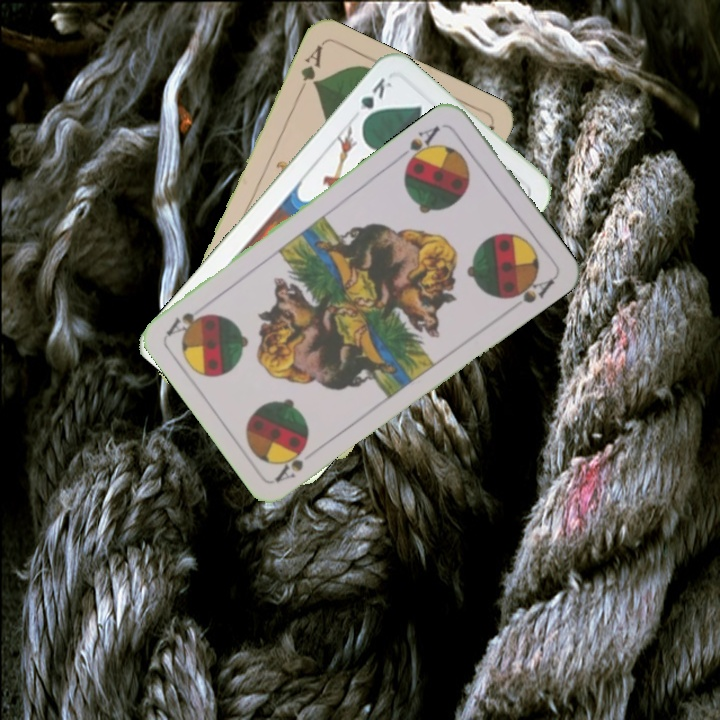GA: (295, 41, 326, 97)
GK: (356, 73, 395, 127)
SA: (395, 121, 443, 169), (271, 439, 311, 485)
